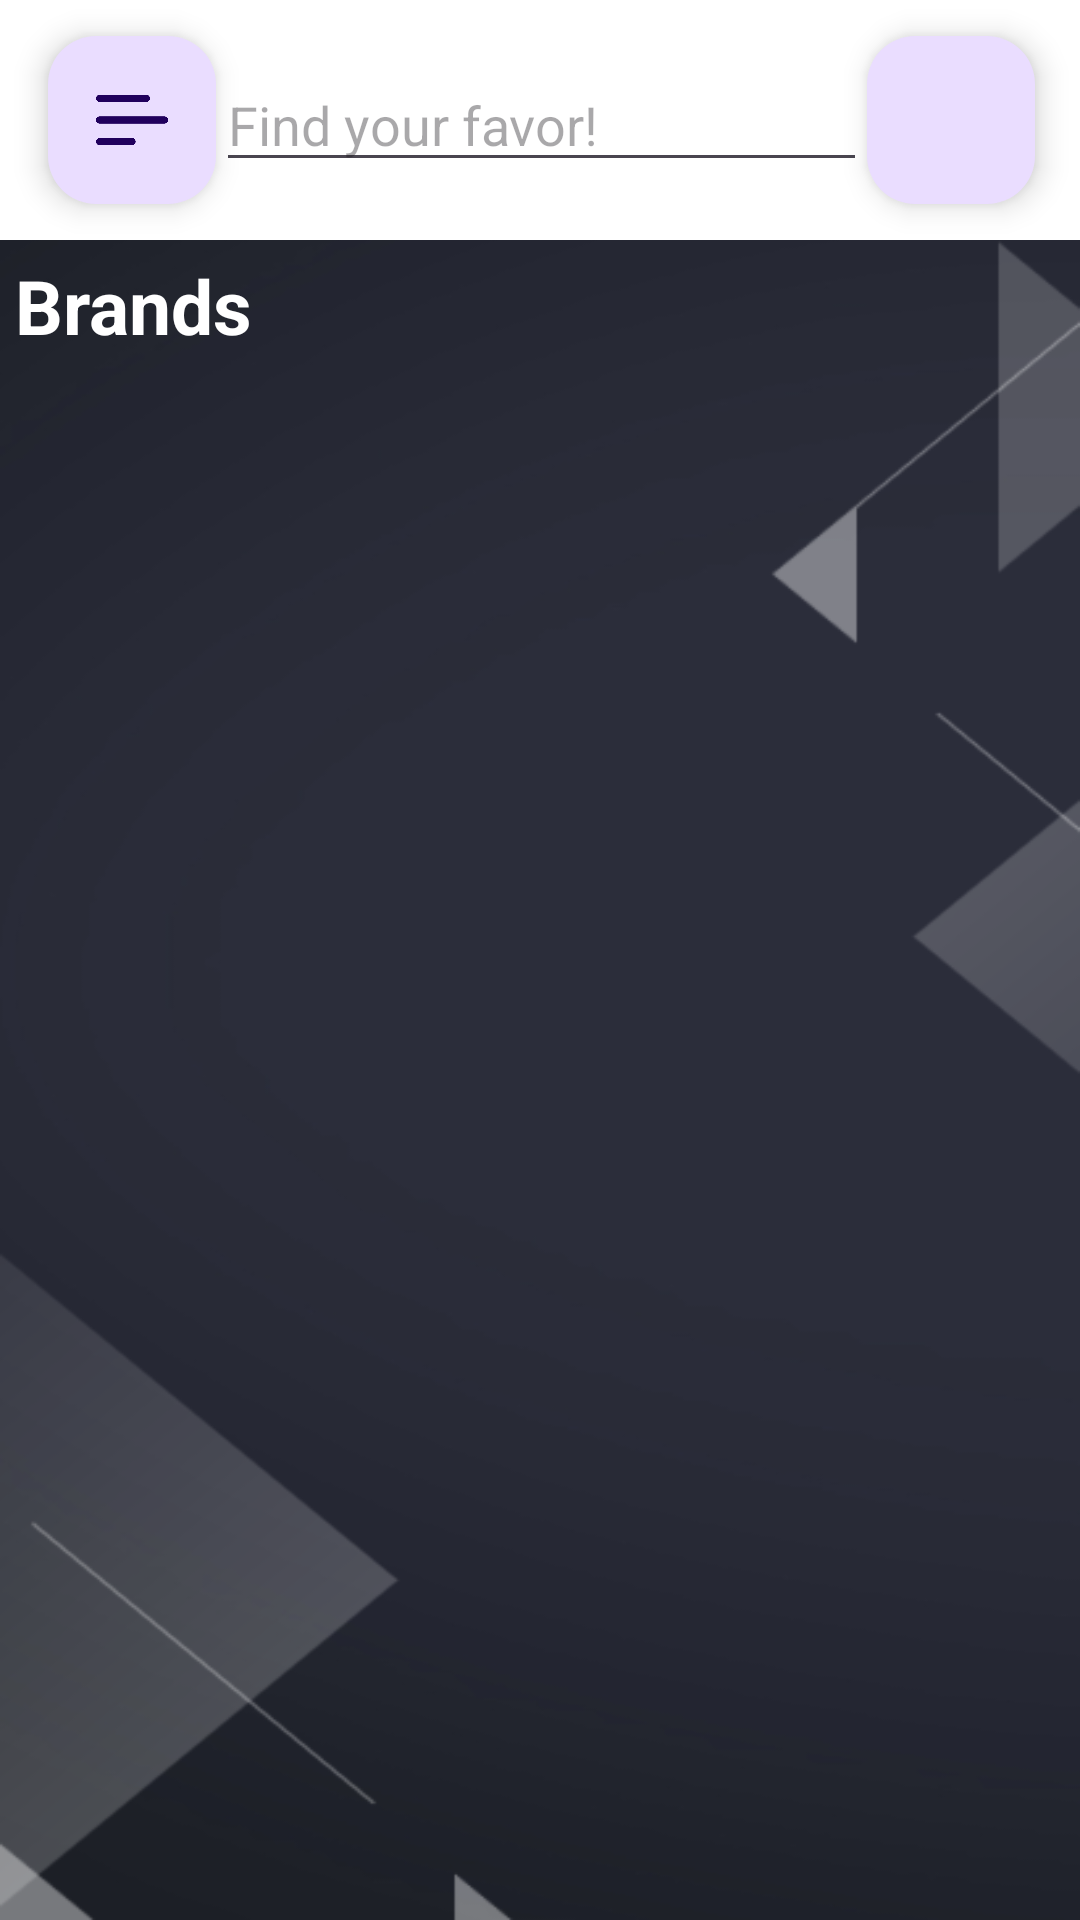

Icon click points for this 1080*1920 phone screenshot, format point (x, y):
menu: point (132, 120)
